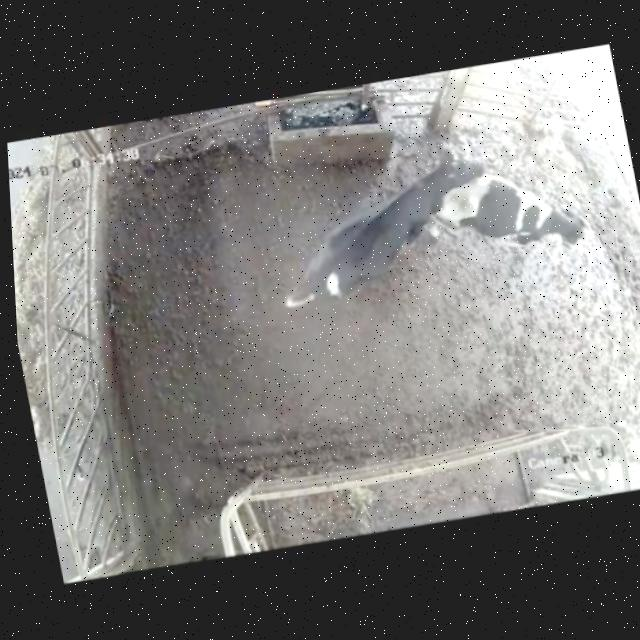ride: (230, 134, 512, 345)
stand: (427, 132, 608, 293)
